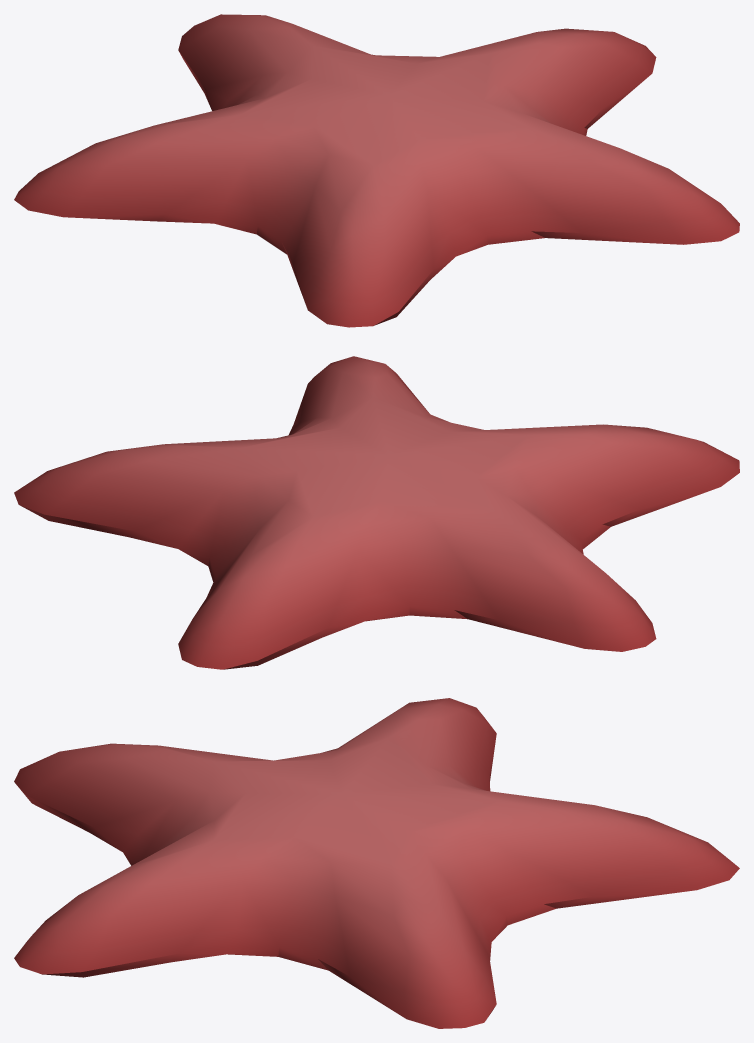
The model's file is Starfish_01.fbx.
3 views of the same model, one above another, from view 1: azimuth 30°, elevation 25°; view 2: azimuth 150°, elevation 25°; view 3: azimuth 270°, elevation 25° (orthographic). The views are drawn at different scales.
Parts seen in each view (by area): view 1: Starfish_01_LOD0; view 2: Starfish_01_LOD0; view 3: Starfish_01_LOD0.
Part boxes in pixels (left/top/right/bottom): Starfish_01_LOD0: left=14, top=14, right=739, bottom=327; Starfish_01_LOD0: left=14, top=356, right=739, bottom=669; Starfish_01_LOD0: left=14, top=698, right=739, bottom=1028.
Size of what is drawn, in the model's own units: 0.2593 by 0.0317 by 0.2488.
